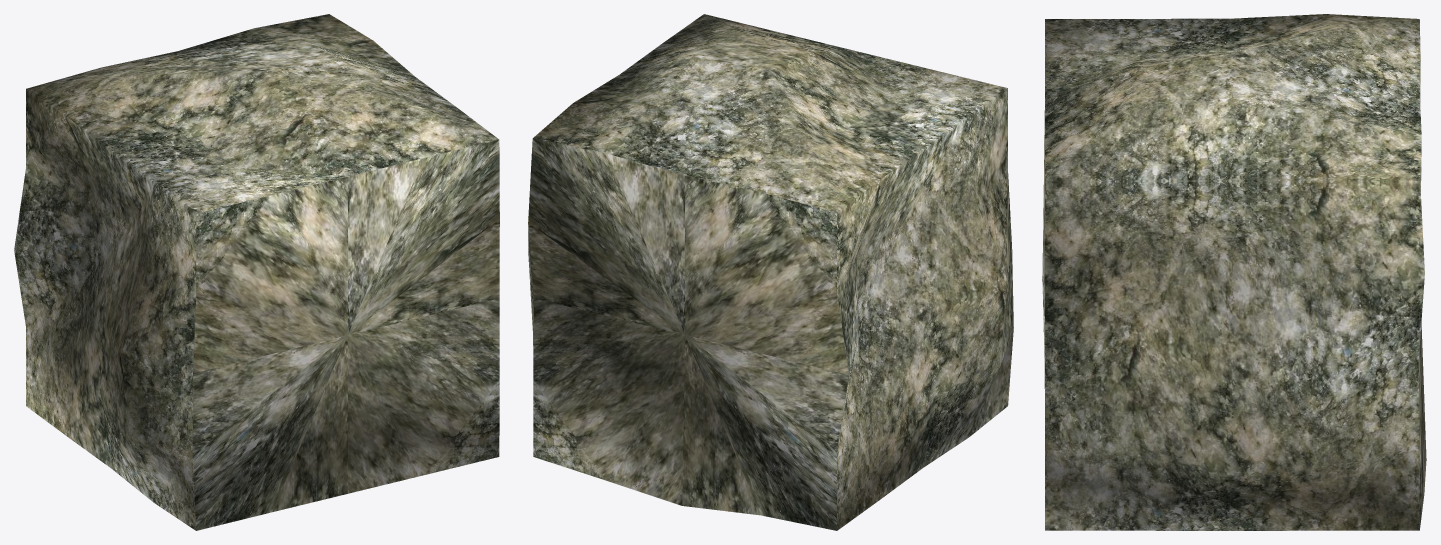
Rendered from mountain_rock.obj.
The picture shows the model from 3 angles, left to right: view 1: azimuth 30°, elevation 25°; view 2: azimuth 150°, elevation 25°; view 3: azimuth 270°, elevation 25°; orthographic projection. The views are drawn at different scales.
Parts seen in each view (by area): view 1: Cube; view 2: Cube; view 3: Cube.
Part boxes in pixels (x1,y1,x2,y2): Cube: (14,14,499,530); Cube: (528,14,1013,530); Cube: (1042,14,1426,530).
Size of the model in its own units: 2.62 by 2.57 by 2.02.
